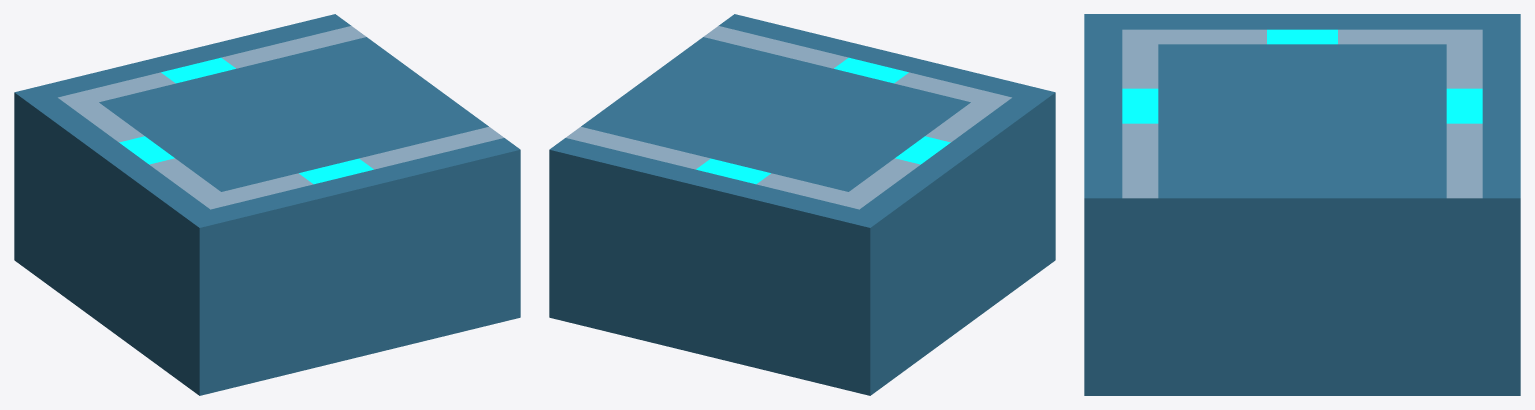
File: model_tile_border_single_corner.fbx
The picture shows the model from 3 angles, left to right: view 1: azimuth 30°, elevation 25°; view 2: azimuth 150°, elevation 25°; view 3: azimuth 270°, elevation 25°; orthographic projection. The views are drawn at different scales.
Parts seen in each view (by area): view 1: tile_border_single_corner; view 2: tile_border_single_corner; view 3: tile_border_single_corner.
Part boxes in pixels (left/top/right/bottom): tile_border_single_corner: left=14, top=14, right=520, bottom=395; tile_border_single_corner: left=549, top=14, right=1055, bottom=395; tile_border_single_corner: left=1084, top=14, right=1520, bottom=395.
Bounding box in the file's own units: 60.96 × 30.48 × 60.96.
